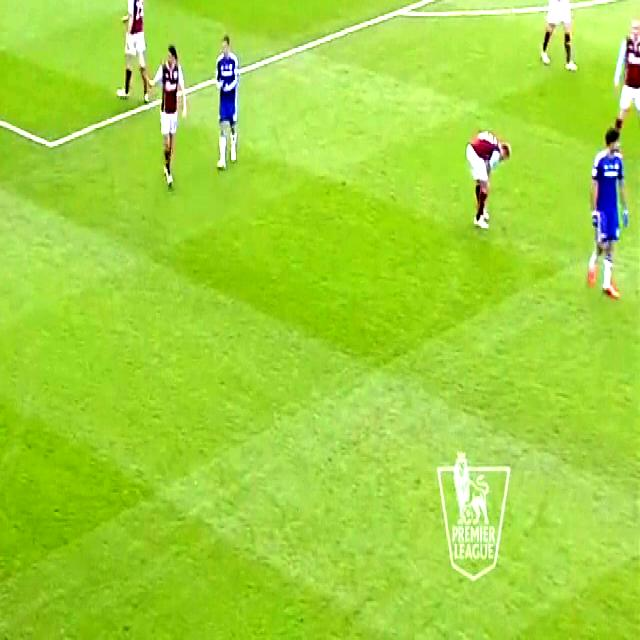soccer-player: (581, 121, 631, 306), (205, 17, 248, 181), (457, 117, 517, 231), (150, 40, 190, 198), (608, 11, 640, 149), (116, 0, 156, 107), (536, 0, 582, 76), (0, 262, 4, 469)
